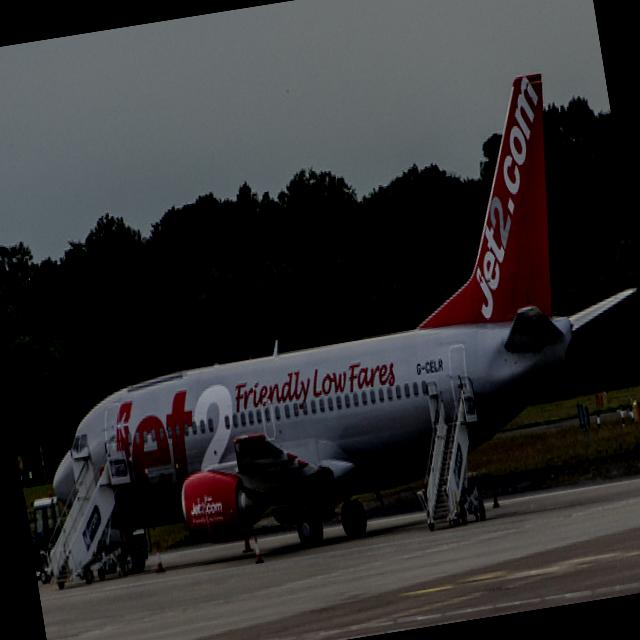Vehicle: (23, 490, 68, 584)
